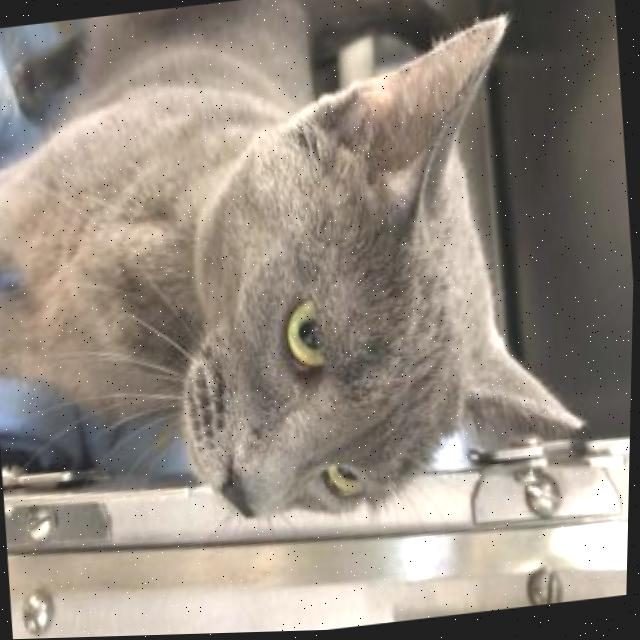Russian Blue: (0, 0, 608, 570)
